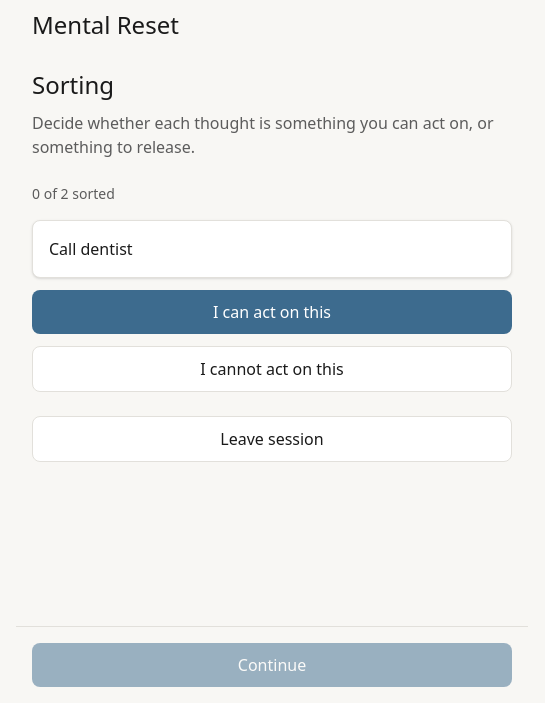
it: Sorting screen › resolves non-actionable thoughts as RELEASE without creating tasks
Click the button "I cannot act on this" at (272, 369), box left=32, top=346, right=512, bottom=392
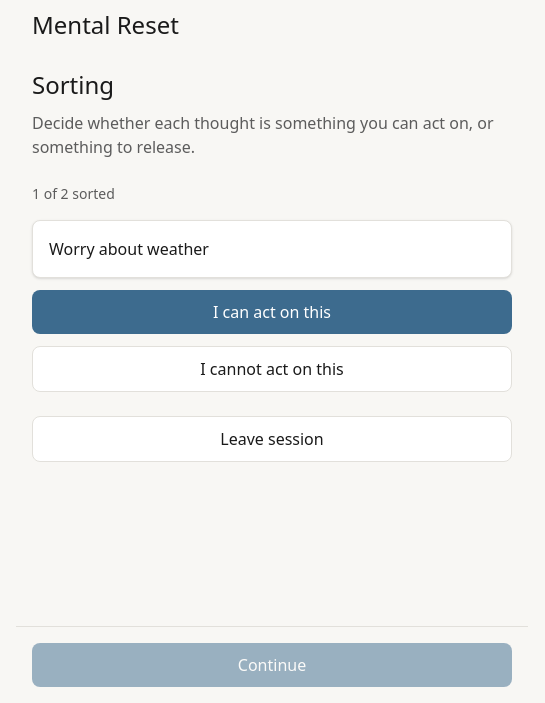
expect the text "Worry about weather" is shown: met, box left=49, top=238, right=209, bottom=260
